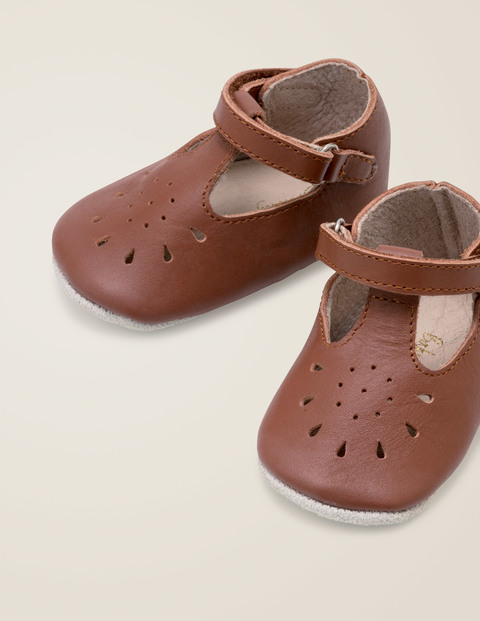shoe: (48, 41, 480, 529)
